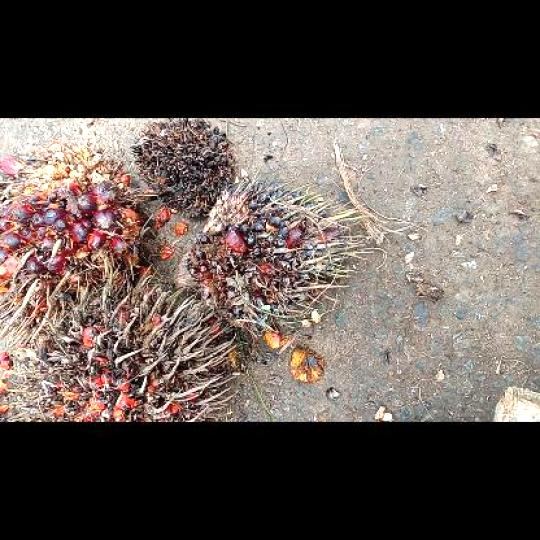masak: (1, 141, 152, 337)
terlalu masak: (13, 276, 236, 420)
